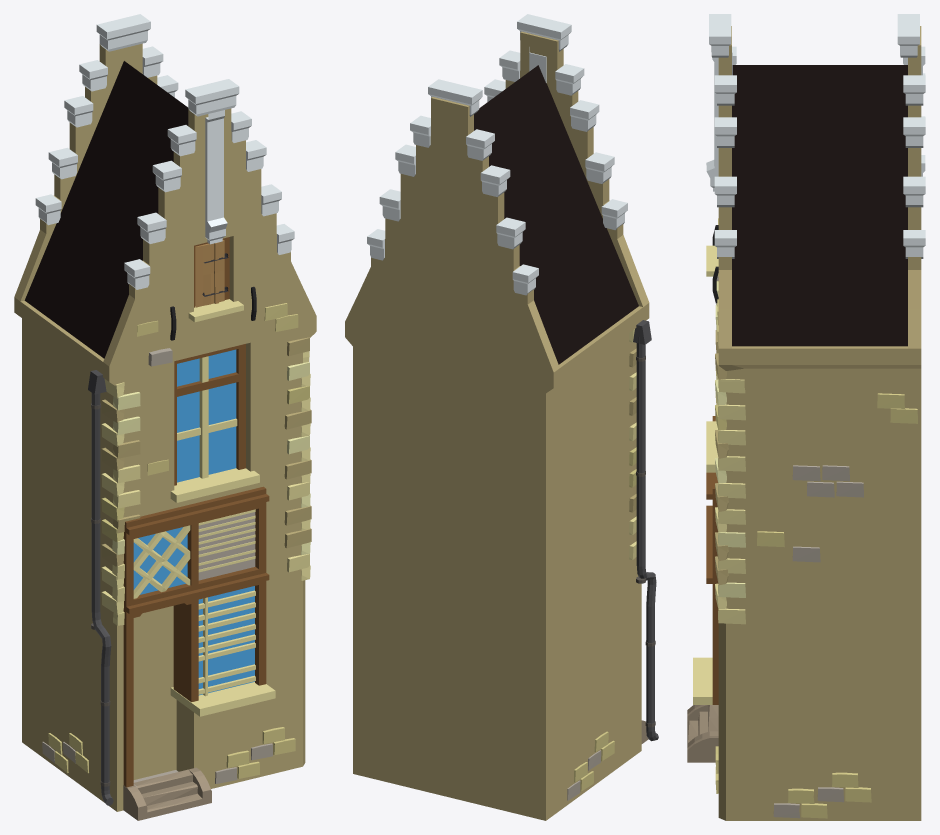
File: EA_TenementHouse_01a.fbx
3 views of the same model, side by side, from view 1: azimuth 30°, elevation 25°; view 2: azimuth 150°, elevation 25°; view 3: azimuth 270°, elevation 25° (orthographic). The views are drawn at different scales.
Parts seen in each view (by area): view 1: EA_TenementHouse_01a_LOD0; view 2: EA_TenementHouse_01a_LOD0; view 3: EA_TenementHouse_01a_LOD0.
Boxes of the visible parts, x1,y1,x2,y2 form: EA_TenementHouse_01a_LOD0: [14, 14, 316, 820]; EA_TenementHouse_01a_LOD0: [345, 14, 658, 820]; EA_TenementHouse_01a_LOD0: [687, 14, 925, 820].
Size of what is drawn, in the model's own units: 3.9 by 12.09 by 3.5.
